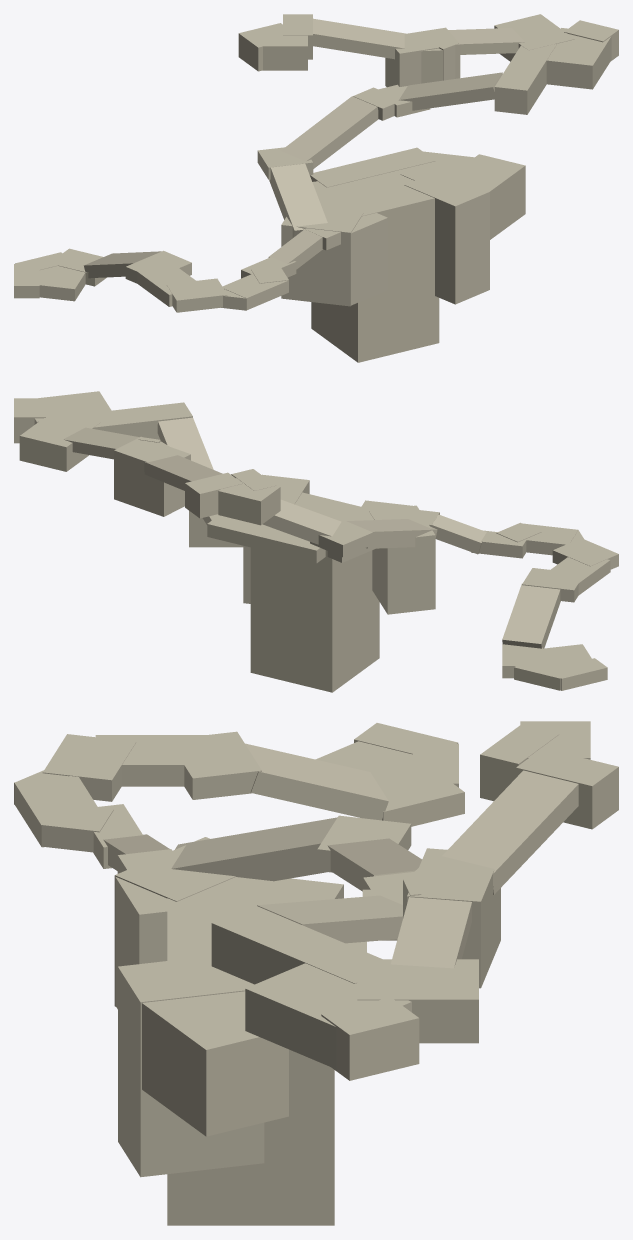
The model's file is p_Hub.fbx.
The picture shows the model from 3 angles, top to bottom: view 1: azimuth 30°, elevation 25°; view 2: azimuth 150°, elevation 25°; view 3: azimuth 270°, elevation 25°; orthographic projection. The views are drawn at different scales.
Visible parts, largest first — view 1: Floor_hub, Floor_hub__4_, Floor_hub__9_, Floor_hub__3_, hub_Ramp__1_, Floor_hub__10_, Floor_01__216_, Floor_01__214_, hub_Ramp__4_, hub_Ramp__2_, hub_Ramp, Floor_hub__7_ (+25 smaller); view 2: Floor_hub, Floor_hub__9_, Floor_hub__7_, Floor_01__218_, Floor_hub__33_, Floor_hub__5_, Floor_01__214_, Floor_01__215_, hub_Ramp__1_, hub_Ramp__4_, hub_Ramp, Floor_01__220_ (+19 smaller); view 3: Floor_hub, Floor_hub__3_, Floor_hub__4_, hub_Ramp__2_, Floor_01__214_, Floor_01__216_, Floor_01__218_, hub_Ramp__4_, Floor_hub__33_, Floor_01__221_, Floor_hub__7_, Floor_hub__30_ (+22 smaller).
Boxes of the visible parts, x1,y1,x2,y2 form: Floor_hub: (311, 169, 439, 362); Floor_hub__4_: (404, 170, 489, 304); Floor_hub__9_: (281, 208, 363, 306); Floor_hub__3_: (451, 154, 525, 239); hub_Ramp__1_: (281, 96, 378, 168); Floor_hub__10_: (351, 213, 387, 305); Floor_01__216_: (546, 28, 611, 89); Floor_01__214_: (494, 44, 556, 114); hub_Ramp__4_: (269, 163, 327, 237); hub_Ramp__2_: (313, 18, 405, 59); hub_Ramp: (399, 72, 502, 110); Floor_hub__7_: (385, 27, 460, 87); Floor_hub: (250, 492, 379, 692); Floor_hub__9_: (369, 505, 435, 614); Floor_hub__7_: (114, 436, 190, 516); Floor_01__218_: (19, 410, 100, 471); Floor_hub__33_: (502, 584, 560, 648); Floor_hub__5_: (207, 515, 325, 563); Floor_01__214_: (74, 402, 192, 439); Floor_01__215_: (218, 478, 280, 525); hub_Ramp__1_: (262, 499, 341, 544); hub_Ramp__4_: (346, 519, 437, 548); hub_Ramp: (157, 417, 213, 469); Floor_01__220_: (185, 472, 242, 518); Floor_hub: (167, 895, 334, 1225); Floor_hub__3_: (142, 994, 288, 1136); Floor_hub__4_: (118, 956, 264, 1177); hub_Ramp__2_: (442, 770, 578, 894); Floor_01__214_: (211, 905, 382, 984); Floor_01__216_: (245, 963, 411, 1068); Floor_01__218_: (357, 959, 478, 1043); hub_Ramp__4_: (171, 817, 337, 881); Floor_hub__33_: (245, 743, 388, 820); Floor_01__221_: (321, 997, 419, 1080); Floor_hub__7_: (407, 848, 500, 988); Floor_hub__30_: (95, 735, 238, 786).
Size of the model in its own units: 5143 by 2000 by 2532.
